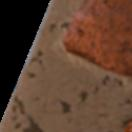brick: (126, 123, 131, 131)
broken_brick: (62, 0, 131, 78)
crack: (0, 0, 53, 130)
